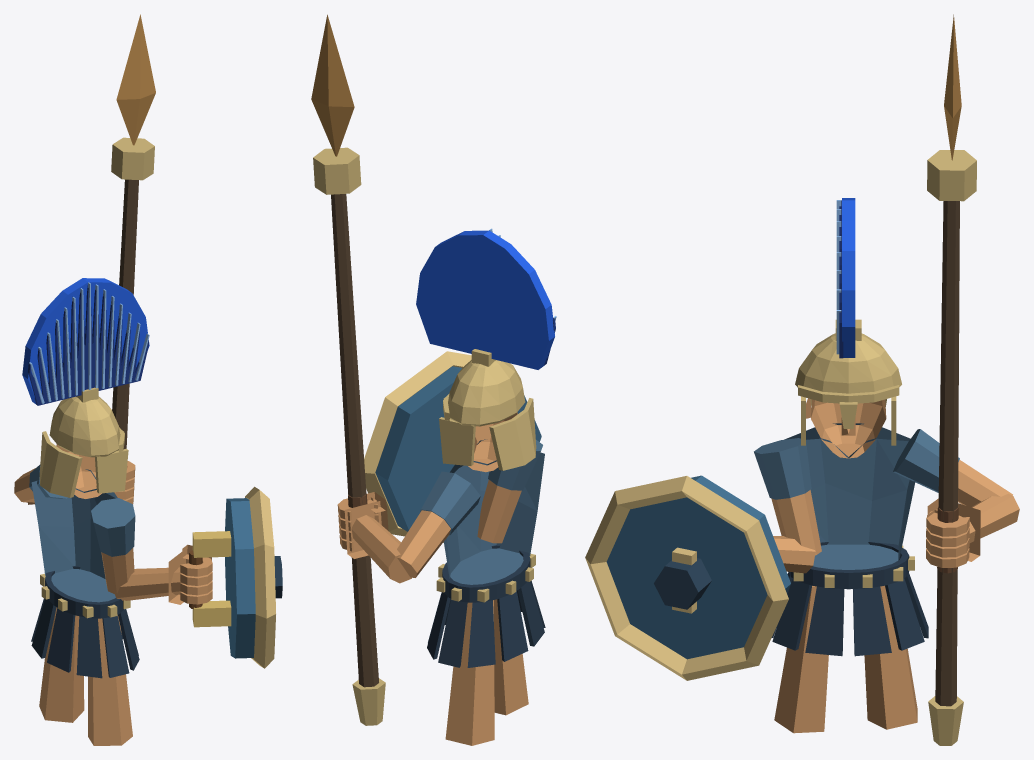
File: romanSoldier_spear_blue.glb
3 views of the same model, side by side, from view 1: azimuth 30°, elevation 25°; view 2: azimuth 150°, elevation 25°; view 3: azimuth 270°, elevation 25° (orthographic). The views are drawn at different scales.
Parts seen in each view (by area): view 1: Helmet_Galea.002, n3, Skirt_Ten_Separated_Lames.002, soldier-crest-feathers, soldier-crest, soldier-crest-stems, n33, n35, n24, long-spear-head, n27, n42 (+10 smaller); view 2: soldier-crest, Helmet_Galea.002, n42, n33, Skirt_Ten_Separated_Lames.002, n3, n27, n35, long-spear-head, n21, n24, Short_blue_sleeve_R (+8 smaller); view 3: n33, n3, n35, n42, Skirt_Ten_Separated_Lames.002, Helmet_Galea.002, n24, n27, n7, Closed_gripping_hand_R, Short_blue_sleeve_L, n46 (+10 smaller).
Part boxes in pixels (box(x1,y1,x2,y2)): Helmet_Galea.002: box(39, 387, 130, 618); n3: box(31, 469, 117, 606); Skirt_Ten_Separated_Lames.002: box(31, 598, 139, 678); soldier-crest-feathers: box(28, 285, 148, 405); soldier-crest: box(22, 278, 149, 404); soldier-crest-stems: box(29, 282, 149, 403); n33: box(225, 498, 255, 658); n35: box(245, 486, 275, 668); n24: box(88, 614, 132, 745); long-spear-head: box(116, 14, 155, 145); n27: box(39, 607, 84, 722); n42: box(112, 179, 138, 448); soldier-crest: box(416, 230, 554, 369); Helmet_Galea.002: box(436, 349, 536, 602); n42: box(331, 194, 378, 687); n33: box(375, 366, 541, 531); Skirt_Ten_Separated_Lames.002: box(427, 580, 545, 667); n3: box(444, 439, 544, 584); n27: box(445, 600, 494, 745); n35: box(364, 351, 471, 542); long-spear-head: box(311, 14, 354, 156); n21: box(397, 510, 450, 577); n24: box(494, 599, 528, 715); Short_blue_sleeve_R: box(420, 471, 480, 535); n33: box(606, 475, 790, 659); n3: box(784, 423, 915, 569); n35: box(585, 476, 788, 680); n42: box(935, 201, 959, 706); Skirt_Ten_Separated_Lames.002: box(771, 572, 928, 656); Helmet_Galea.002: box(793, 319, 914, 587); n24: box(774, 586, 828, 733); n27: box(864, 585, 917, 729); n7: box(806, 398, 886, 458); Closed_gripping_hand_R: box(926, 498, 980, 567); Short_blue_sleeve_L: box(754, 438, 811, 499); n46: box(927, 150, 976, 201).
Size of the model in its own units: 0.5587 by 1.7 by 0.8754.
